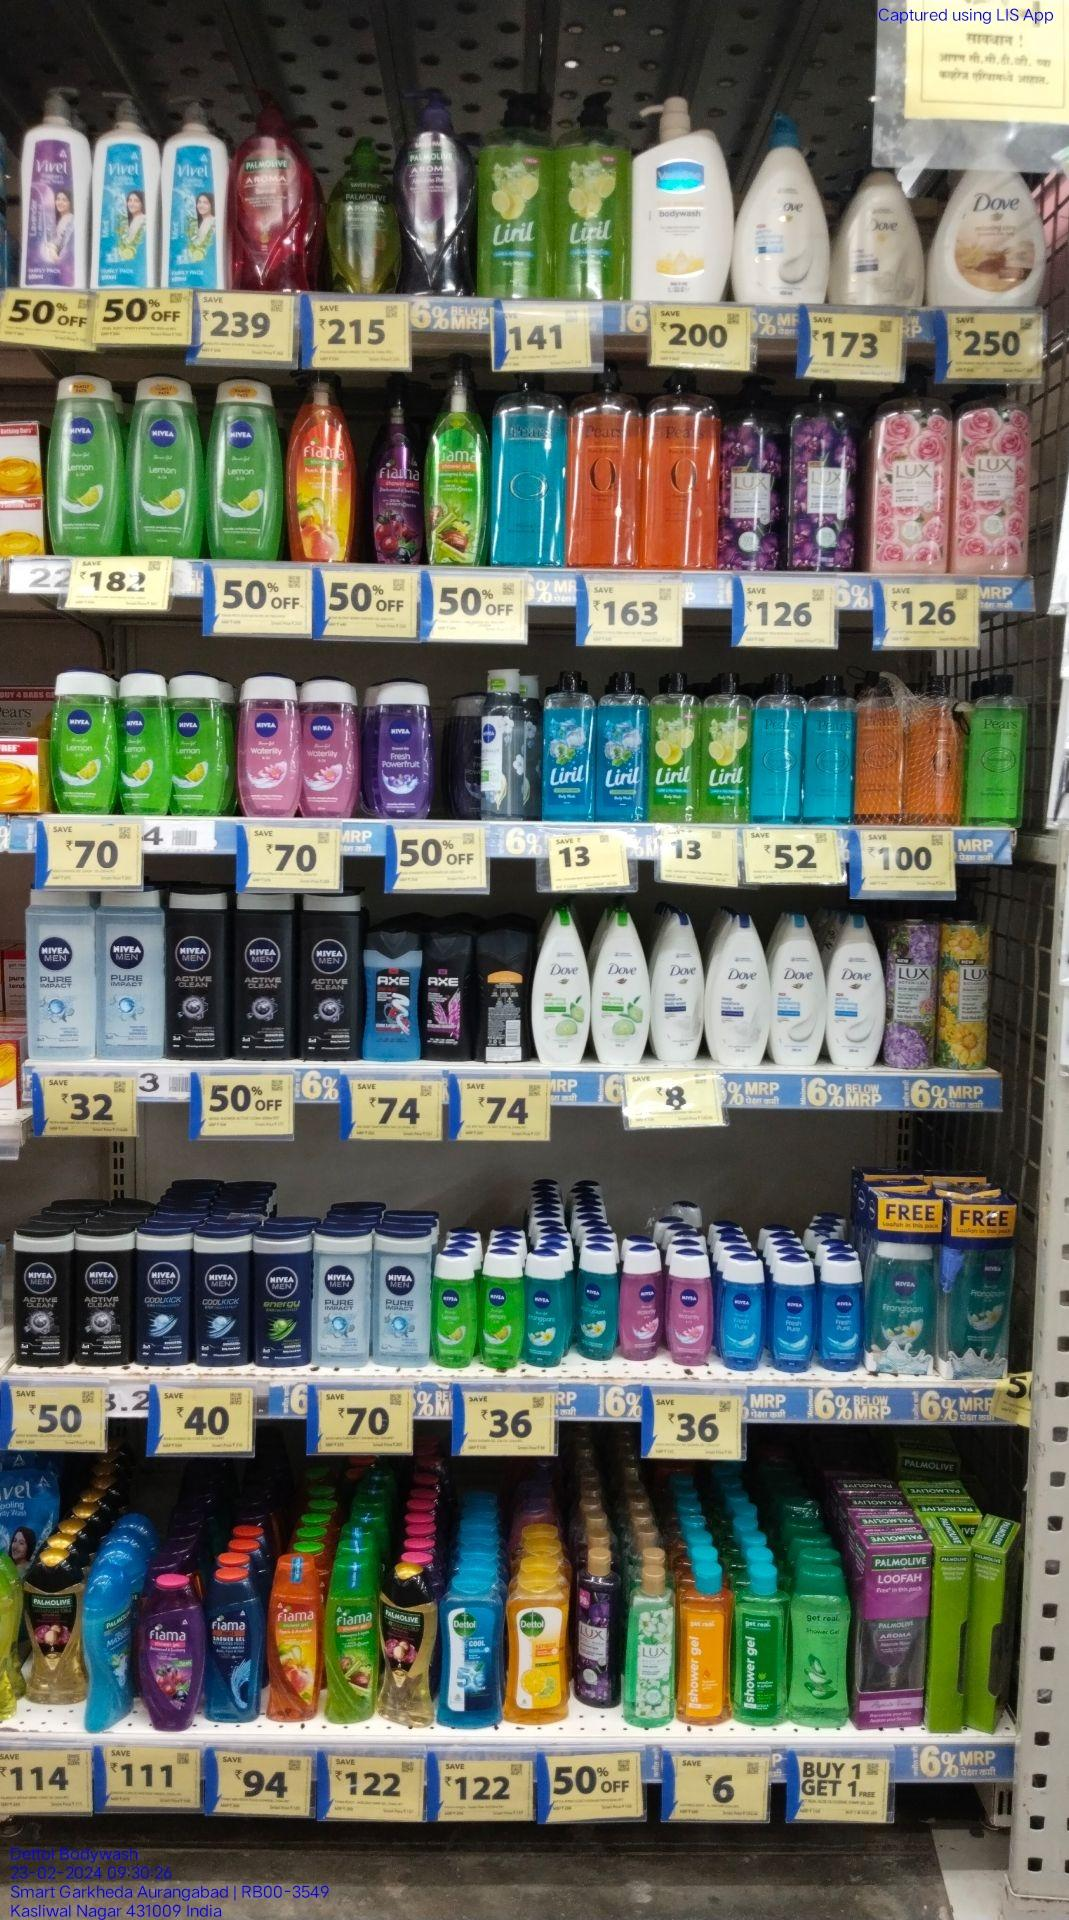Dettol_Bodywash_Cool: (441, 1580, 499, 1729)
Dettol_Bodywash_Refresh: (507, 1579, 570, 1727)
Dove_Deep_Moisture_Body_Wash_250ML: (708, 916, 766, 1067), (652, 909, 703, 1065)
Dove_Gentle_Exfoliating_Body_Wash_250ML: (832, 916, 887, 1066), (770, 917, 824, 1067)
Dove_Refreshing_Body_Wash_250ML: (529, 909, 590, 1065), (595, 912, 650, 1066)
Liril_Cooling_Mint_Body_Wash_250ML: (541, 674, 594, 824), (599, 672, 642, 824)
Liril_Lime_and_Tea_Tree_Oil_Body_Wash_250ML: (652, 671, 700, 824), (703, 670, 750, 820)
Lux_Black_Orchid_Scent_and_Juniper_Oil_Body_Wash_245ML: (578, 1552, 620, 1708)
Lux_Body_Wash_Skin_Detox_Freesia_Scent_and_Alove_Vera_245ML: (624, 1570, 675, 1727)
Nivea_Shower_Gel_Frangipani_and_Oil_250ML: (941, 1246, 1011, 1374), (874, 1240, 936, 1375)
Nivea_Shower_Gel_Fresh_Powerfruit_250ML: (375, 682, 432, 822)
Nivea_Shower_Gel_Lemon_and_Oil_250ML: (47, 366, 121, 557), (208, 376, 276, 561), (130, 370, 195, 555), (51, 669, 113, 817), (117, 670, 172, 815), (178, 674, 222, 812)
Nivea_Shower_Gel_Waterlily_and_Oil_250ML: (241, 676, 299, 820), (304, 676, 357, 817)
Palmolive_Luminous_Oils_Invigorating_Macadamia_Oil_With_Peony_250ML: (22, 1554, 84, 1705), (379, 1574, 433, 1729)
Pears_Pure_Glycerin_and_Lemon_Flower_Extracts_Body_Wash_250ML: (969, 670, 1023, 828)
Pears_Pure_Glycerin_and_Mint_Extracts_Body_Wash_250ML: (804, 671, 853, 825), (757, 670, 800, 824)
